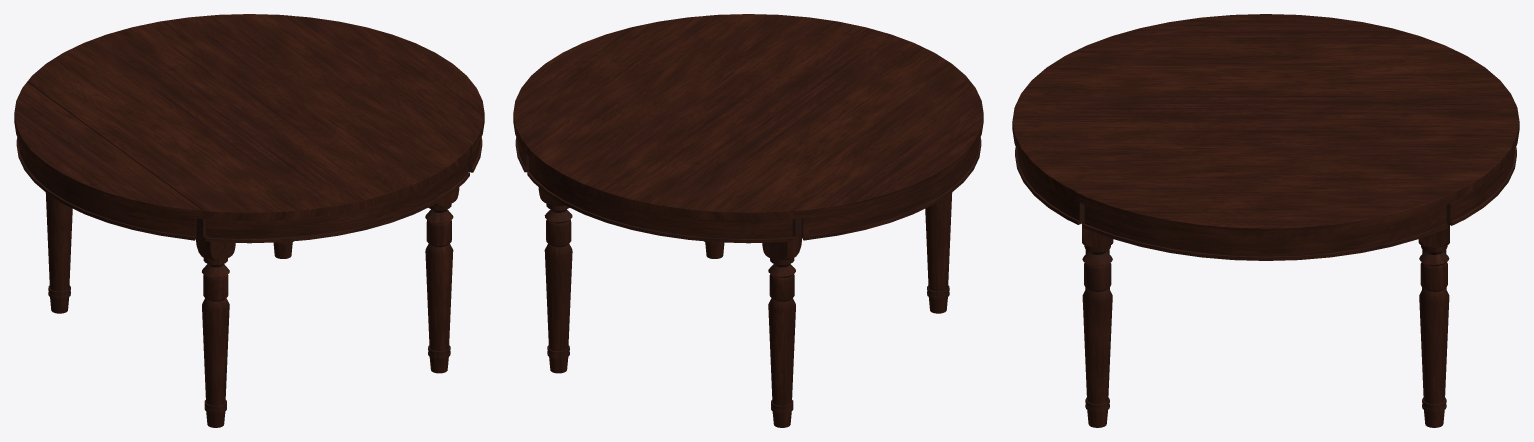
File: kitchen_table_round_table.fbx
3 renders of one model, left to right at view 1: azimuth 30°, elevation 25°; view 2: azimuth 150°, elevation 25°; view 3: azimuth 270°, elevation 25°, orthographic. The views are drawn at different scales.
Visible parts, largest first — view 1: table lowpoly; view 2: table lowpoly; view 3: table lowpoly.
Part boxes in pixels (box(x1,y1,x2,y2)): table lowpoly: box(14, 14, 484, 427); table lowpoly: box(513, 14, 983, 427); table lowpoly: box(1012, 14, 1519, 427).
Bounding box in the file's own units: 186 × 98.88 × 186.
